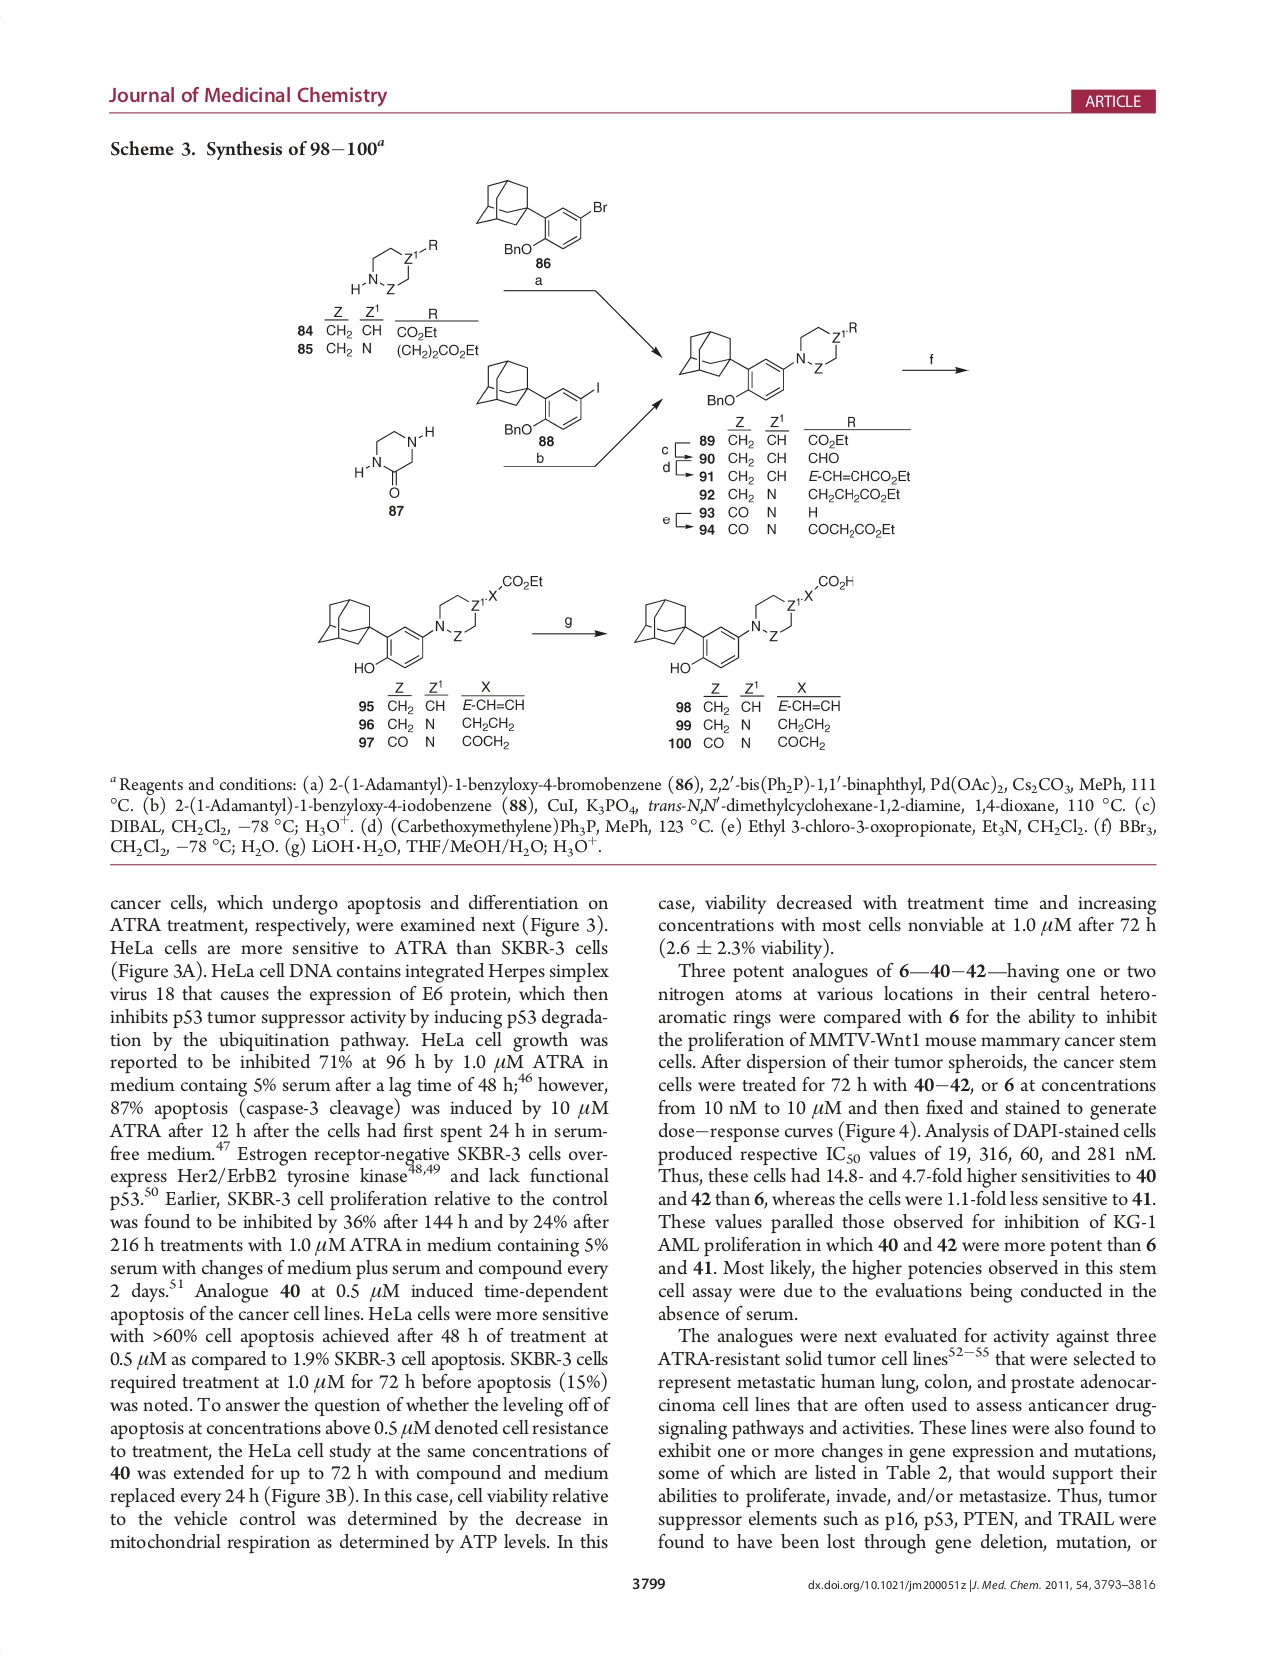exist_molecular: (313, 573, 544, 676), (632, 572, 856, 676), (676, 321, 860, 406), (472, 176, 609, 255), (475, 359, 602, 435), (352, 422, 438, 501), (348, 234, 442, 299)
